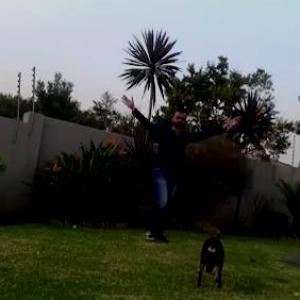takeoff: (126, 93, 244, 251)
